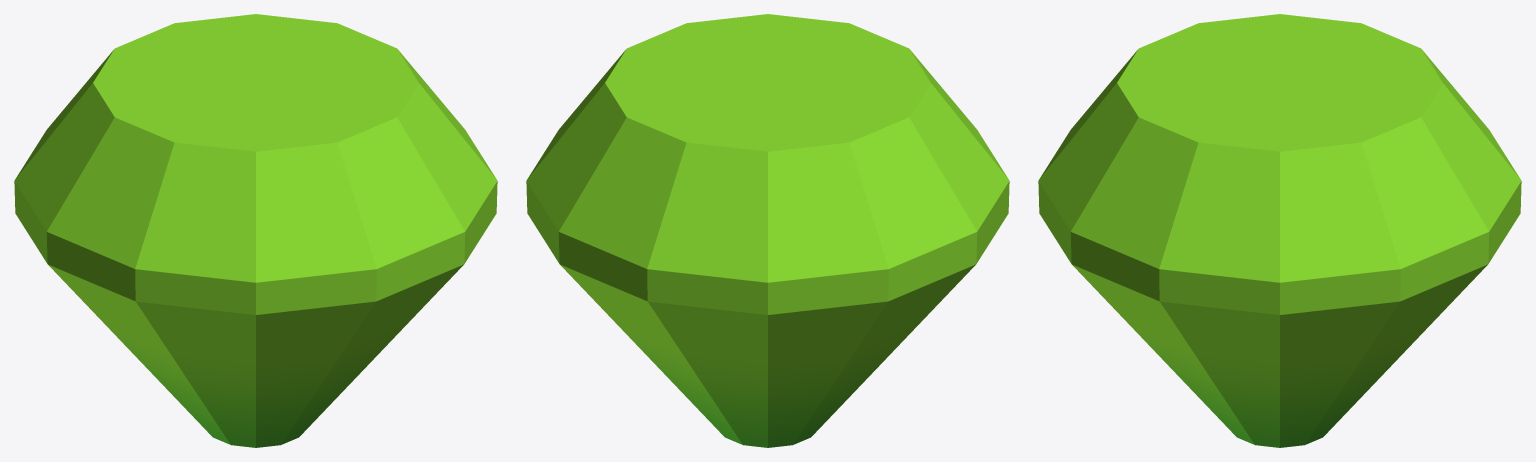
File: Crystal012.fbx
3 views of the same model, side by side, from view 1: azimuth 30°, elevation 25°; view 2: azimuth 150°, elevation 25°; view 3: azimuth 270°, elevation 25° (orthographic).
Visible parts, largest first — view 1: Crystal012; view 2: Crystal012; view 3: Crystal012.
Boxes of the visible parts, x1,y1,x2,y2 form: Crystal012: [14, 14, 497, 447]; Crystal012: [526, 14, 1009, 447]; Crystal012: [1038, 14, 1521, 447].
Bounding box in the file's own units: 91.8 × 72.12 × 91.8.
